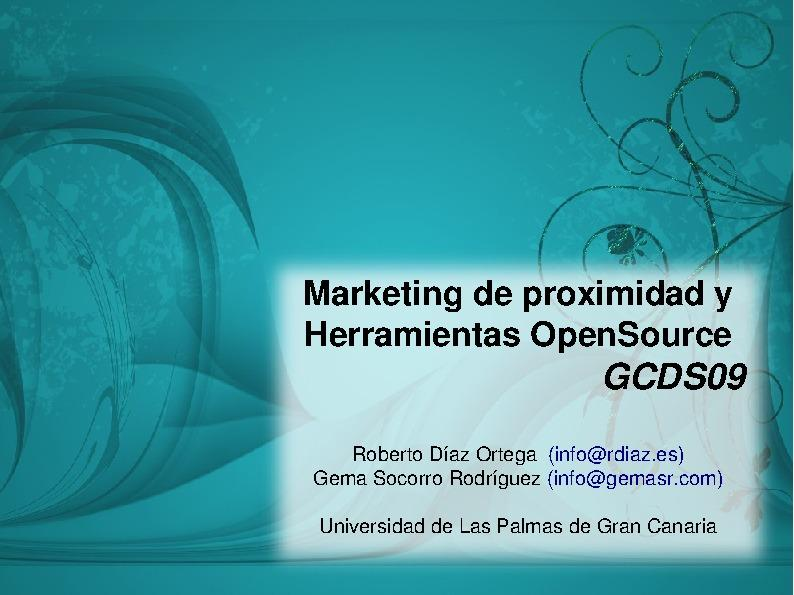subtitle: (298, 427, 744, 544)
title: (295, 270, 750, 403)
